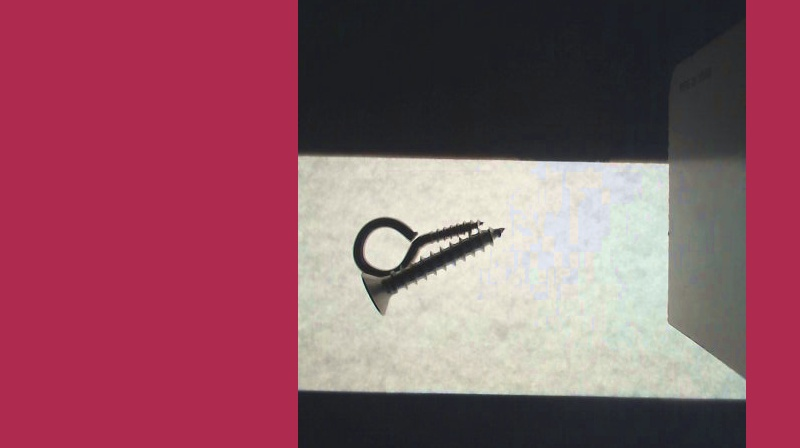O001: (350, 214, 484, 276)
S001: (358, 223, 504, 313)
